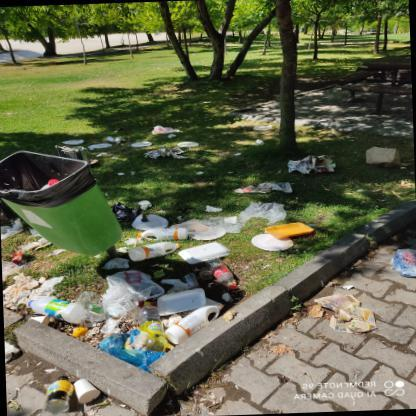Garbage: (23, 262, 233, 315), (124, 208, 282, 266), (148, 281, 256, 346), (132, 220, 221, 267), (213, 174, 275, 238), (25, 369, 112, 414), (288, 190, 356, 230), (54, 117, 130, 152), (26, 290, 86, 318), (388, 228, 415, 290), (154, 136, 206, 166), (8, 225, 38, 272), (298, 146, 342, 173), (364, 133, 410, 155), (33, 171, 60, 189), (148, 122, 172, 137), (10, 256, 30, 266)
